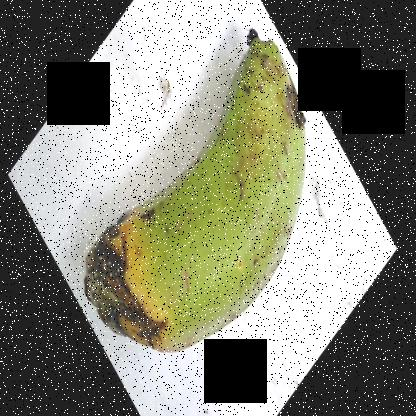unripe: (158, 19, 326, 358)
